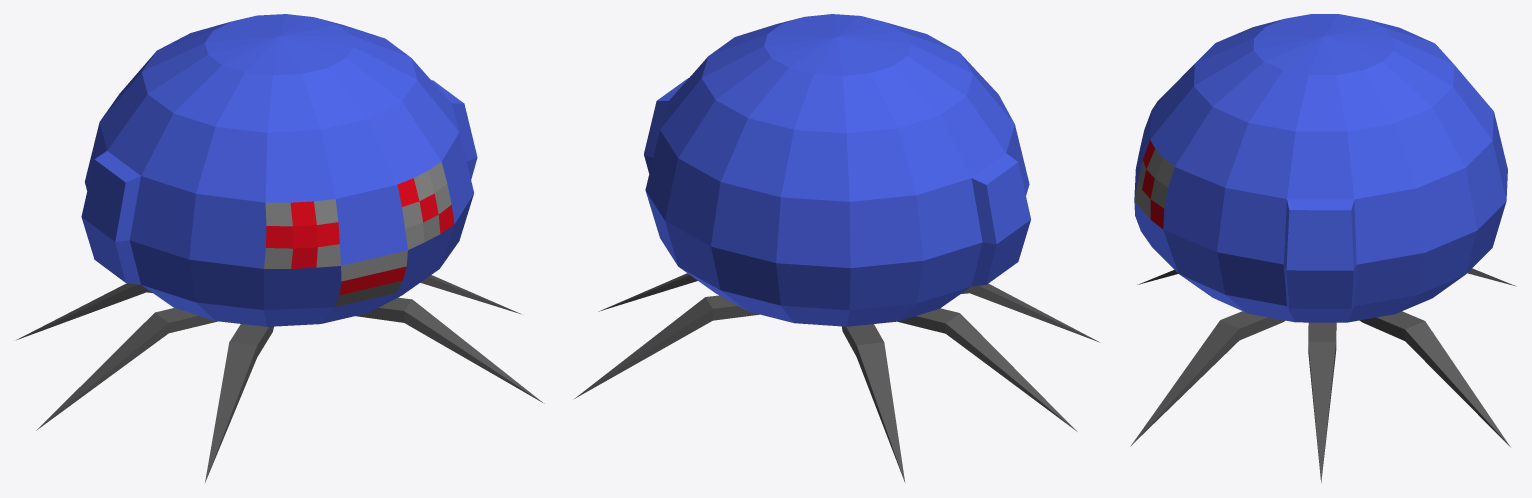
Rendered from crawler.glb.
3 views of the same model, side by side, from view 1: azimuth 30°, elevation 25°; view 2: azimuth 150°, elevation 25°; view 3: azimuth 270°, elevation 25° (orthographic).
Parts seen in each view (by area): view 1: Sphere; view 2: Sphere; view 3: Sphere.
Boxes of the visible parts, <box> form: Sphere: <box>16,14,544,482</box>; Sphere: <box>573,14,1100,482</box>; Sphere: <box>1130,14,1516,482</box>.
Bounding box in the file's own units: 2.3 × 1.52 × 1.62.
